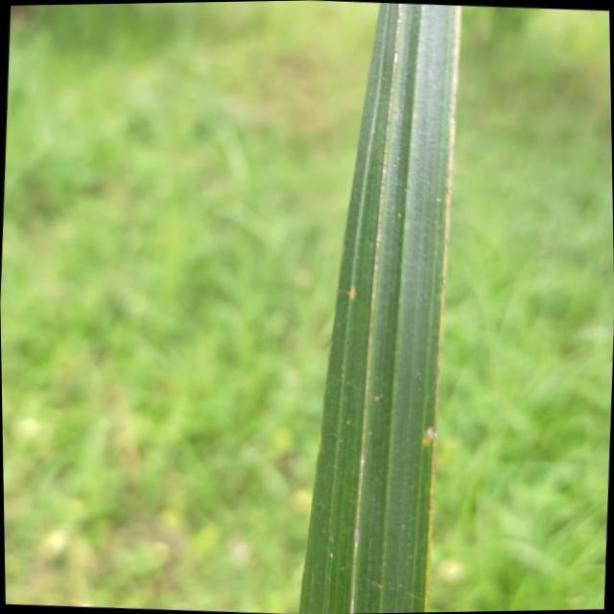Boron: (300, 0, 459, 614)
